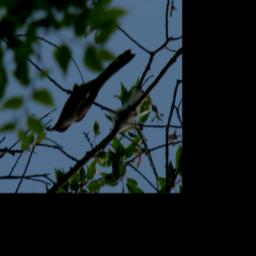Cuckoo: (47, 52, 136, 134)
